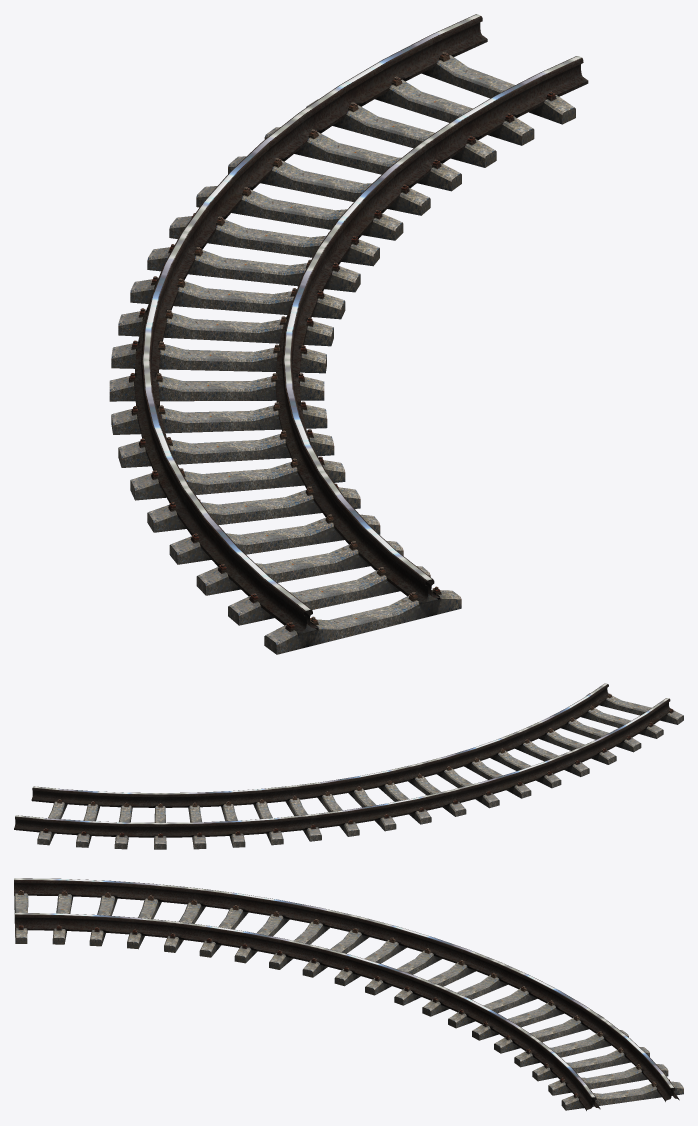
File: Beton_rail_-75.FBX
3 renders of one model, top to bottom at view 1: azimuth 30°, elevation 25°; view 2: azimuth 150°, elevation 25°; view 3: azimuth 270°, elevation 25°, orthographic. The views are drawn at different scales.
Parts seen in each view (by area): view 1: Beton_rail_-75_LOD0; view 2: Beton_rail_-75_LOD0; view 3: Beton_rail_-75_LOD0.
Boxes of the visible parts, left/top/right/bottom form: Beton_rail_-75_LOD0: left=109, top=14, right=588, bottom=654; Beton_rail_-75_LOD0: left=14, top=683, right=683, bottom=849; Beton_rail_-75_LOD0: left=14, top=878, right=683, bottom=1110.
Size of what is drawn, in the model's own units: 10.92 by 13.56 by 0.4774.
